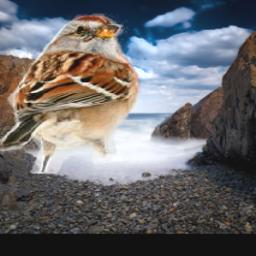Sparrow: (0, 15, 142, 175)
